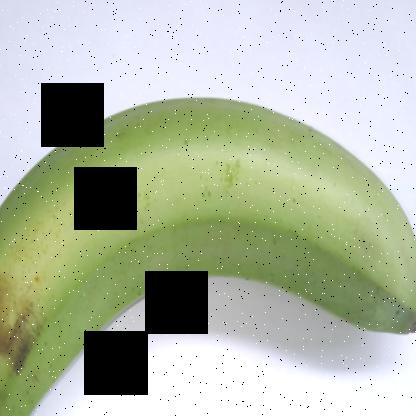freshunripe: (1, 77, 415, 415)
